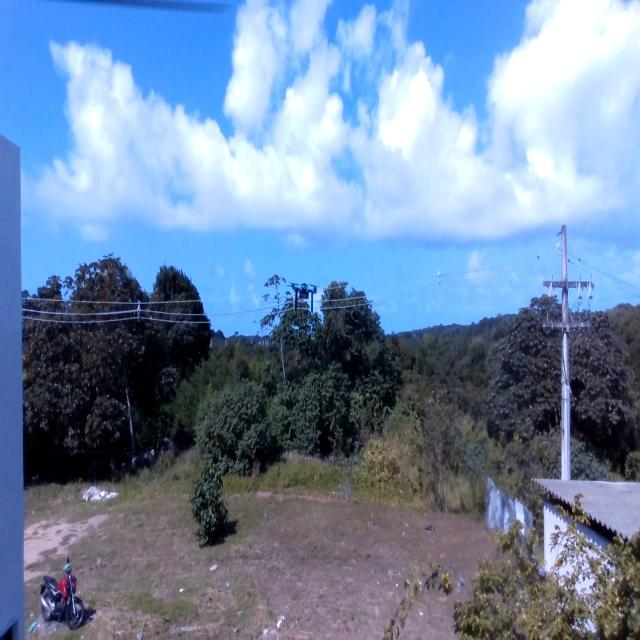-uav-: (284, 264, 324, 326)
